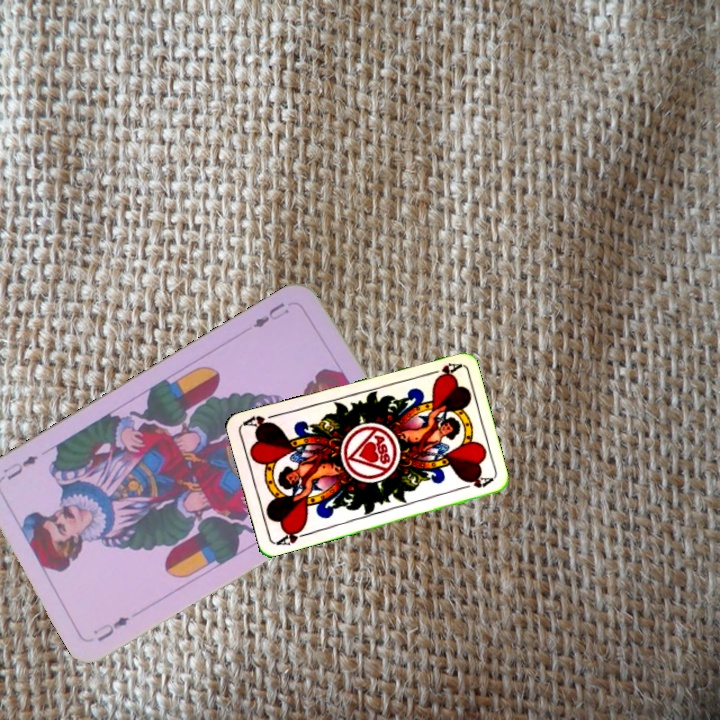EU: (249, 298, 292, 331), (89, 612, 133, 644)
HA: (273, 523, 312, 548), (422, 358, 462, 382)
